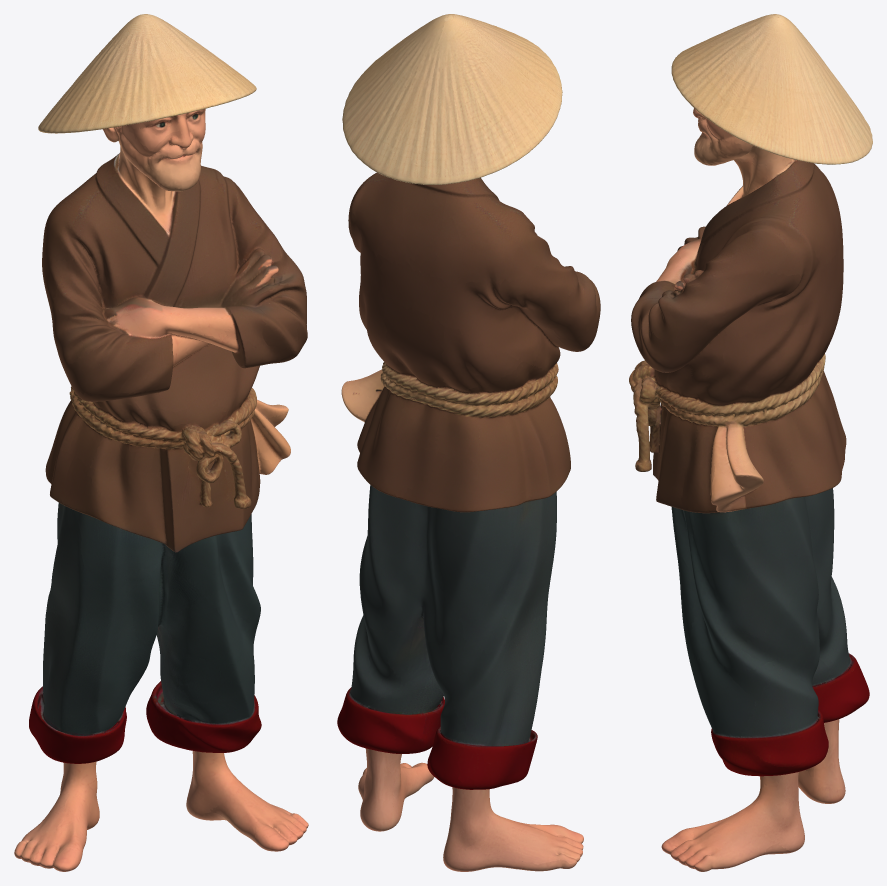
The model's file is Villager_Farmer_Tex.glb.
3 views of the same model, side by side, from view 1: azimuth 30°, elevation 25°; view 2: azimuth 150°, elevation 25°; view 3: azimuth 270°, elevation 25° (orthographic). The views are drawn at different scales.
Bounding box in the file's own units: 0.6087 × 1.9 × 0.5233.
1 material, 1 textured.
